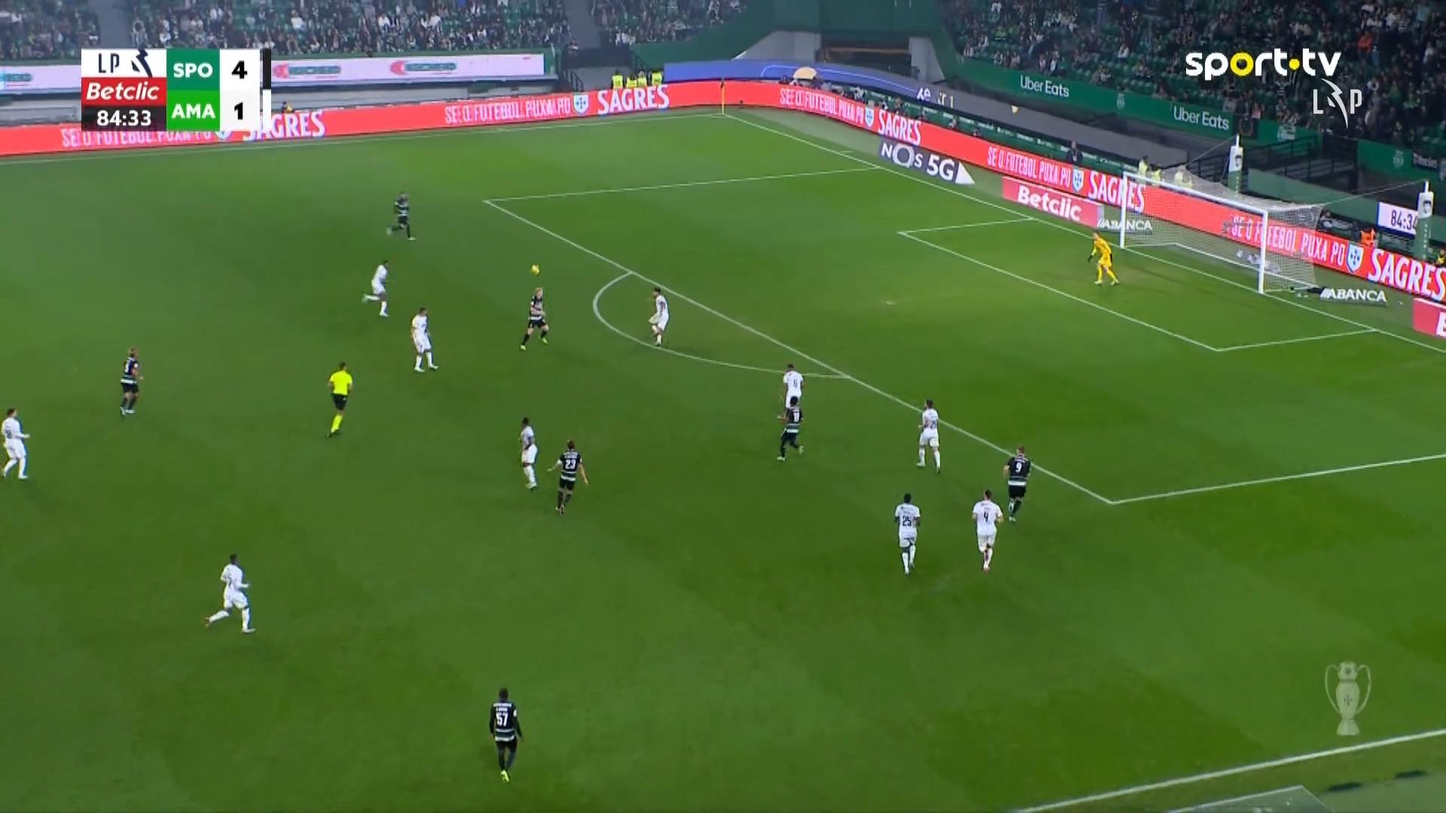ball: (530, 264, 539, 276)
goalkeeper: (1087, 230, 1119, 285)
player: (203, 553, 256, 634), (487, 687, 523, 783), (546, 438, 589, 516), (972, 489, 1003, 571), (892, 492, 920, 575), (0, 406, 30, 479), (1003, 444, 1031, 522), (914, 397, 941, 473), (519, 286, 549, 351), (776, 394, 805, 461), (410, 306, 438, 372), (118, 346, 143, 416), (361, 259, 390, 318), (517, 416, 538, 489), (385, 191, 415, 241), (779, 362, 804, 419), (647, 286, 670, 346)
referee: (325, 360, 352, 437)
